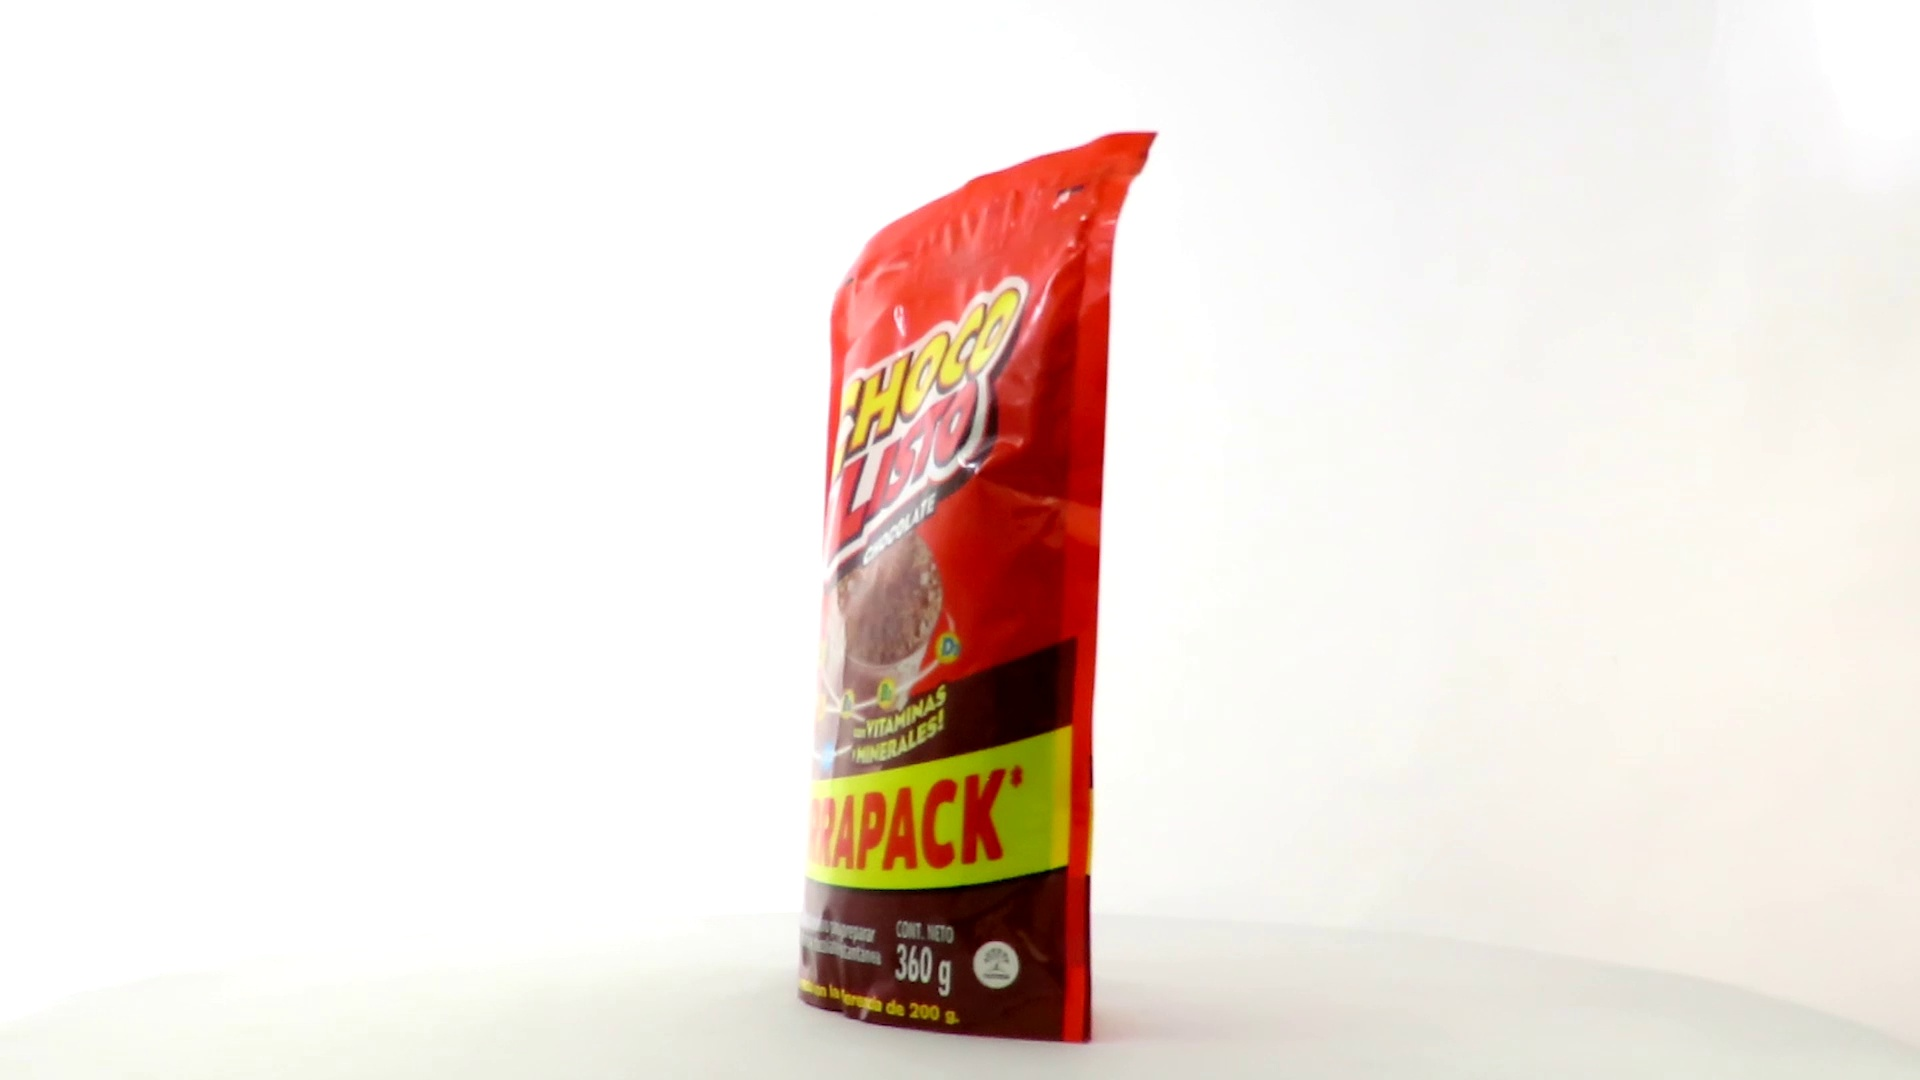COL0170103DYP36000: (793, 127, 1164, 1050)
